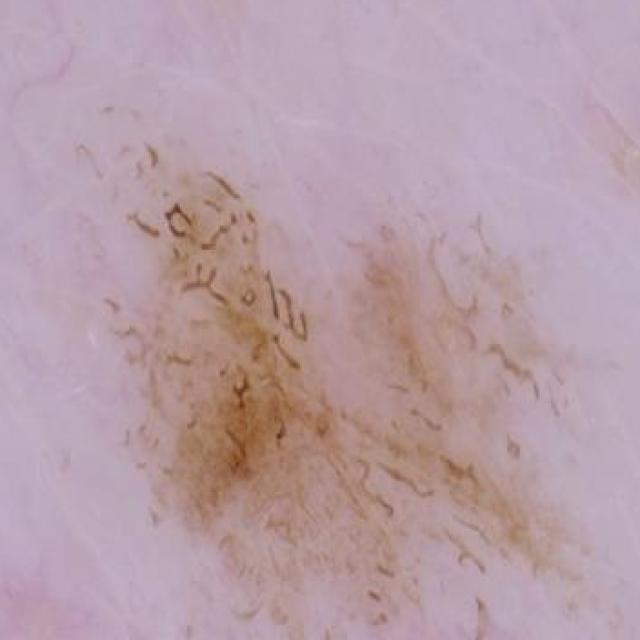BKL: (118, 166, 584, 640)
